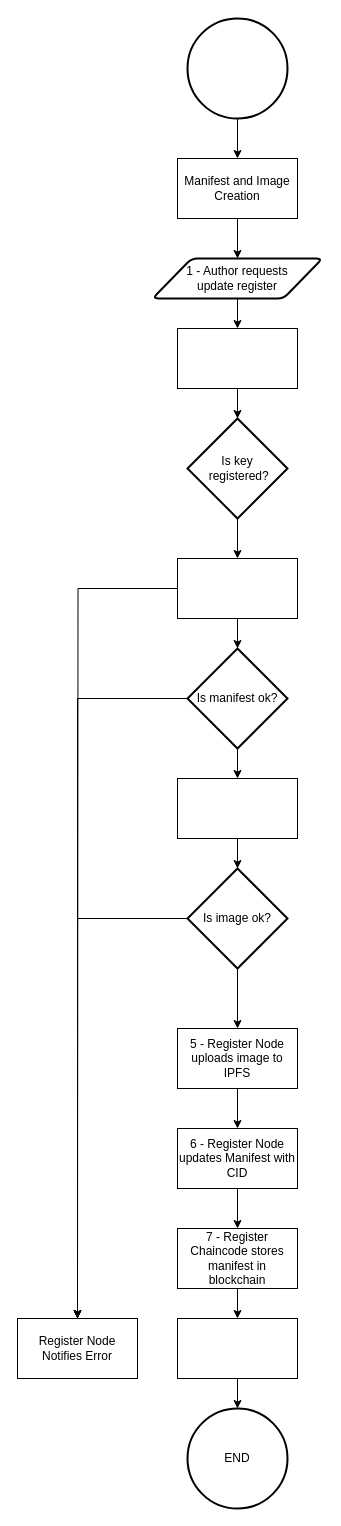
Image size: 341x1526. Some labels were removed from this diagram. Each missing label, with the centre of its shape:
"2 -Register Node verifies author key" belongs at (x=237, y=358).
"3 - Register Node verifies Manifest" belongs at (x=237, y=588).
"4 - Register Node verifies Image" belongs at (x=237, y=808).
"Register Node notifies Succes" belongs at (x=237, y=1348).
"Start" belongs at (x=237, y=68).
